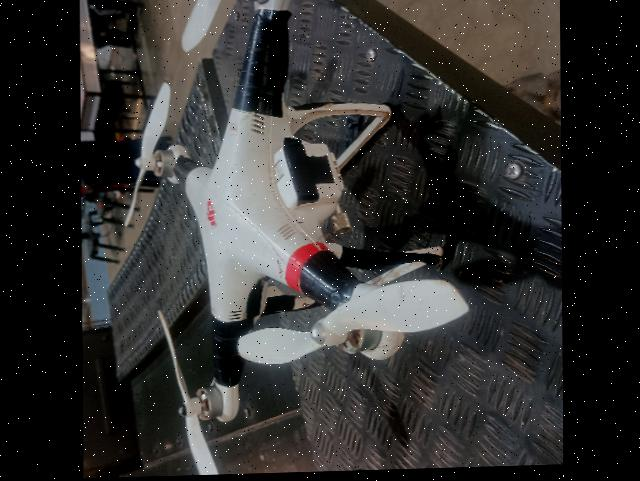drone: (130, 0, 416, 435)
